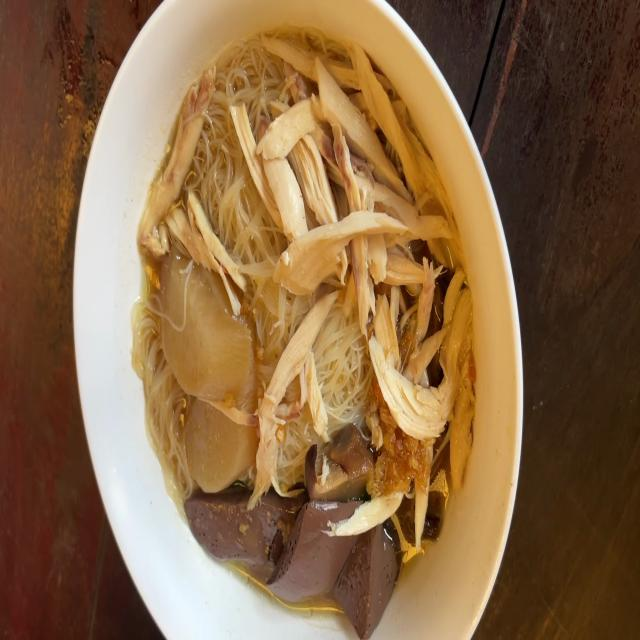noodle: (175, 492, 406, 632)
